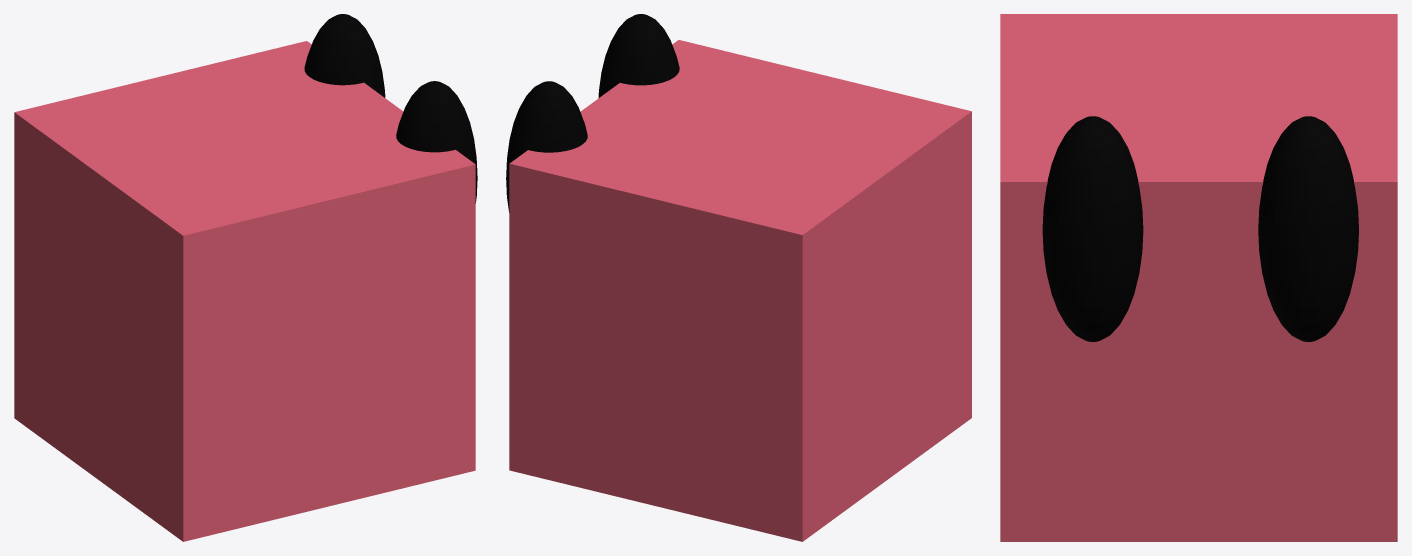
The model's file is unit_warrior.glb.
3 views of the same model, side by side, from view 1: azimuth 30°, elevation 25°; view 2: azimuth 150°, elevation 25°; view 3: azimuth 270°, elevation 25° (orthographic). The views are drawn at different scales.
Parts seen in each view (by area): view 1: Cube, Sphere, Sphere.001; view 2: Cube, Sphere.001, Sphere; view 3: Cube, Sphere, Sphere.001.
Boxes of the visible parts, x1,y1,x2,y2 form: Cube: (14,41,475,541); Sphere: (396,81,477,203); Sphere.001: (304,14,385,97); Cube: (509,40,971,541); Sphere.001: (506,81,587,212); Sphere: (598,14,679,97); Cube: (1000,14,1397,541); Sphere: (1042,116,1143,341); Sphere.001: (1258,116,1358,341).
Size of the model in its own units: 2.24 by 2.35 by 2.
